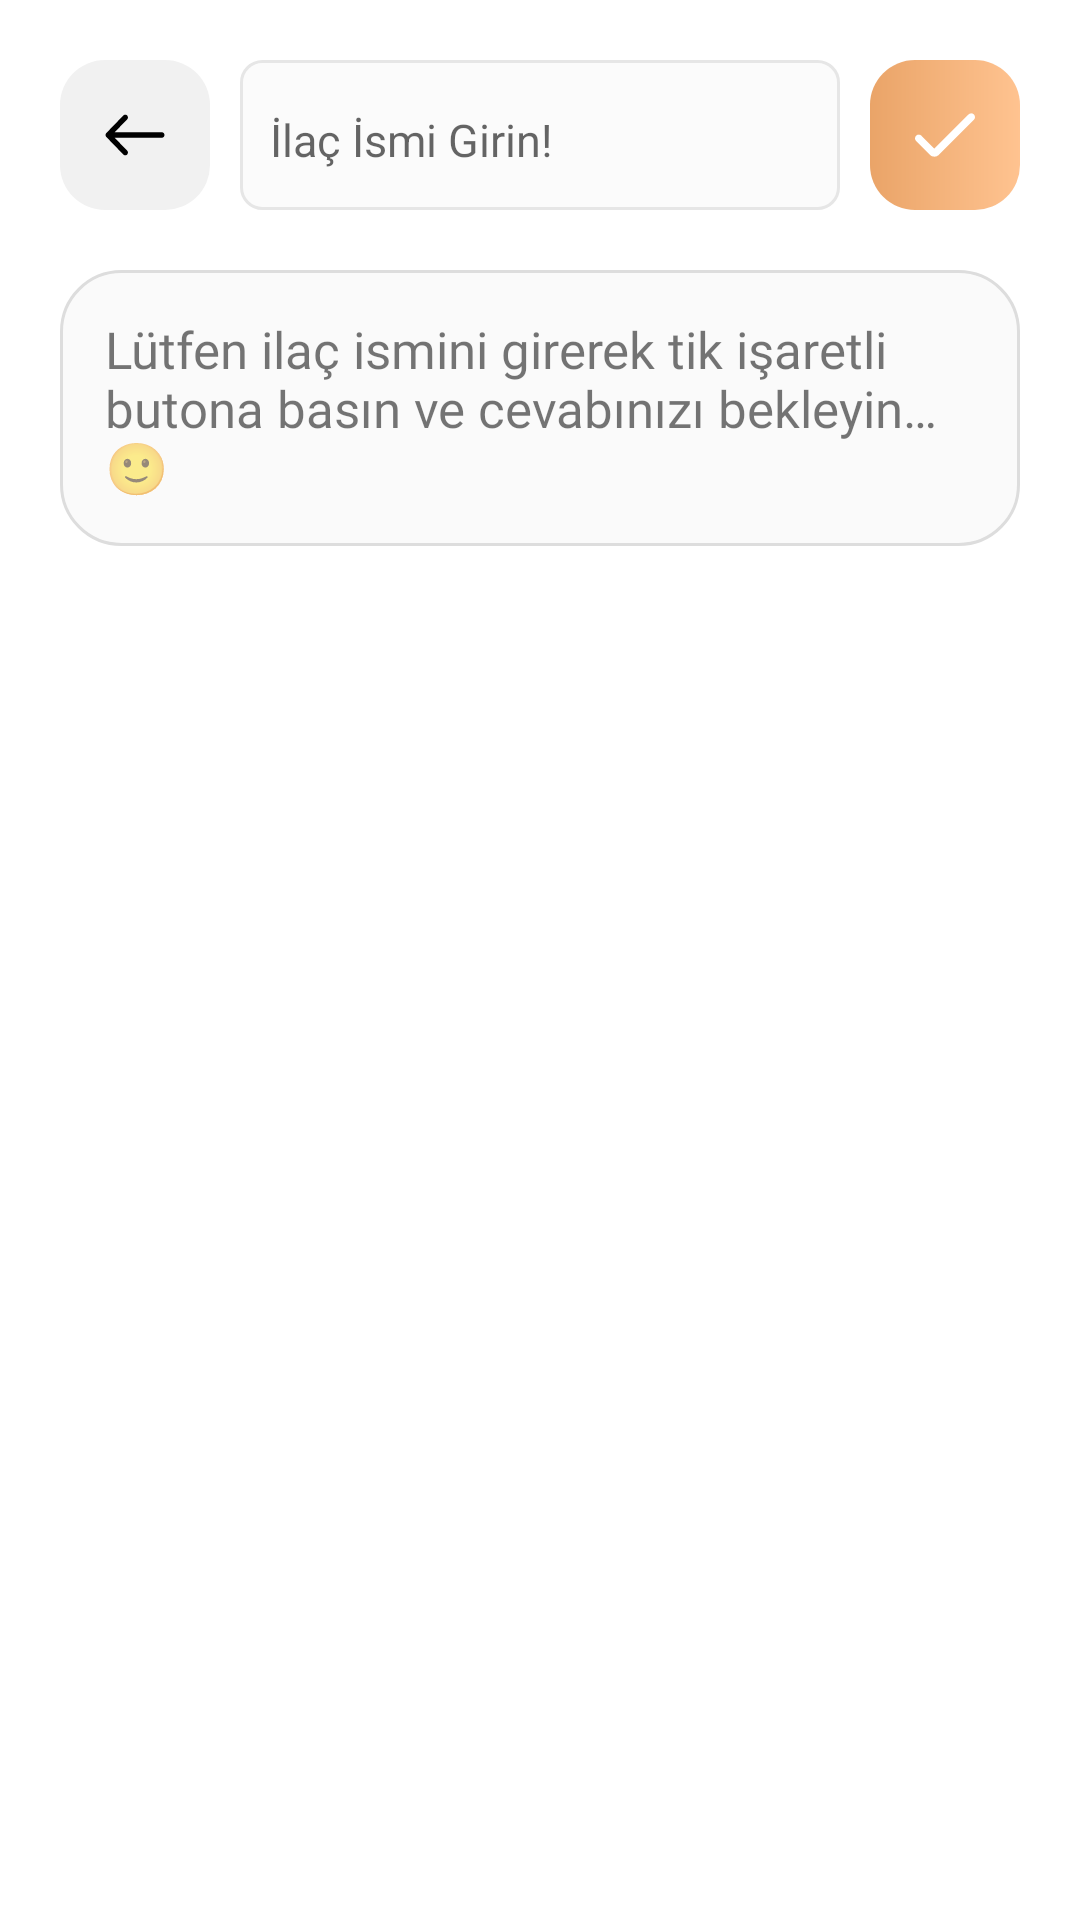

Icons on this 1080w x 1920h Android screen, each with its box as (x1, y1, x2, y2):
check: (915, 113, 975, 157)
